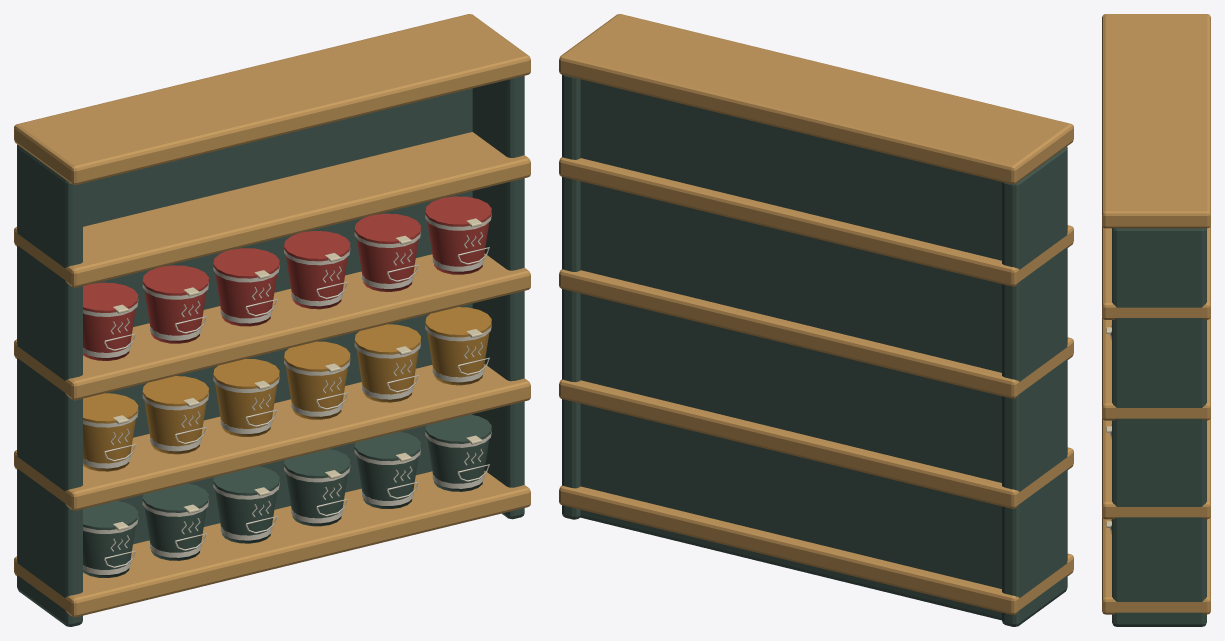
File: shelf.glb
3 views of the same model, side by side, from view 1: azimuth 30°, elevation 25°; view 2: azimuth 150°, elevation 25°; view 3: azimuth 270°, elevation 25° (orthographic). The views are drawn at different scales.
Parts seen in each view (by area): view 1: shelf_Palette; view 2: shelf_Palette; view 3: shelf_Palette.
Boxes of the visible parts, left/top/right/bottom form: shelf_Palette: left=14, top=14, right=530, bottom=626; shelf_Palette: left=559, top=14, right=1073, bottom=626; shelf_Palette: left=1102, top=14, right=1210, bottom=626.
Size of the model in its own units: 2.39 by 2.32 by 0.55.
